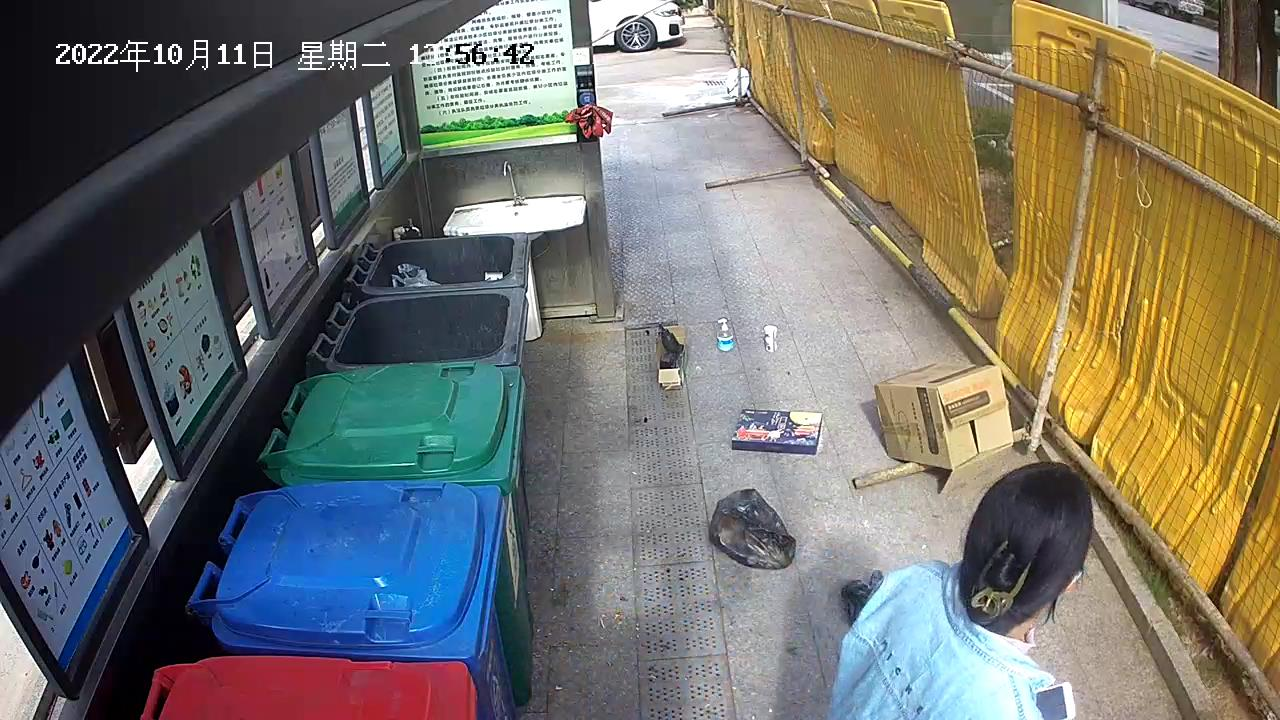garbage-bag: (704, 485, 800, 574)
lvzhipin: (761, 320, 783, 356)
suliaozhipin: (713, 313, 737, 355)
worker: (819, 453, 1104, 720)
zhizhipin: (870, 356, 1017, 498), (728, 403, 827, 457), (653, 317, 690, 395)
